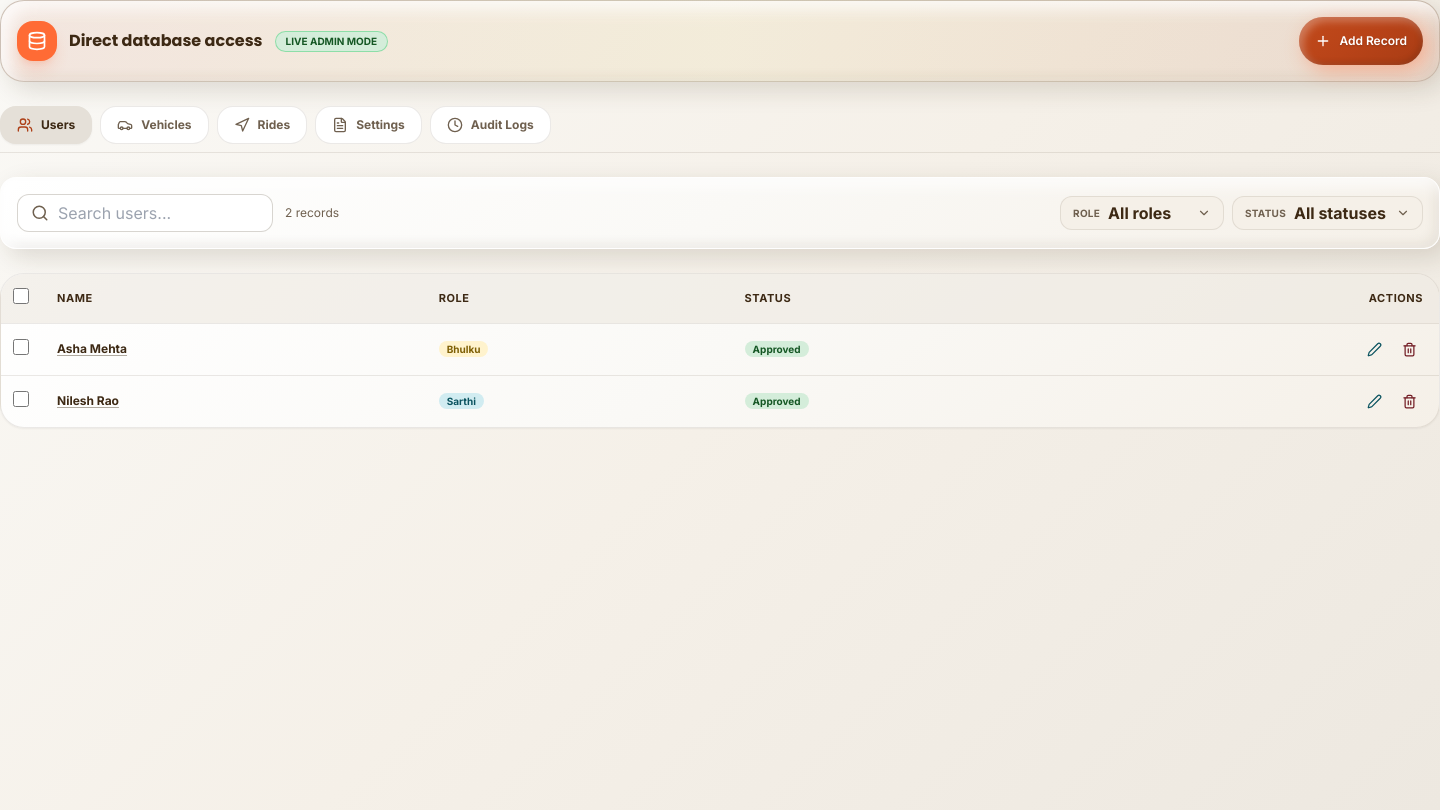
Test case: Raw records, Users — the name opens the record › opens a dialog naming that person
Click the button "Asha Mehta" at (92, 349), box [57, 341, 127, 357]
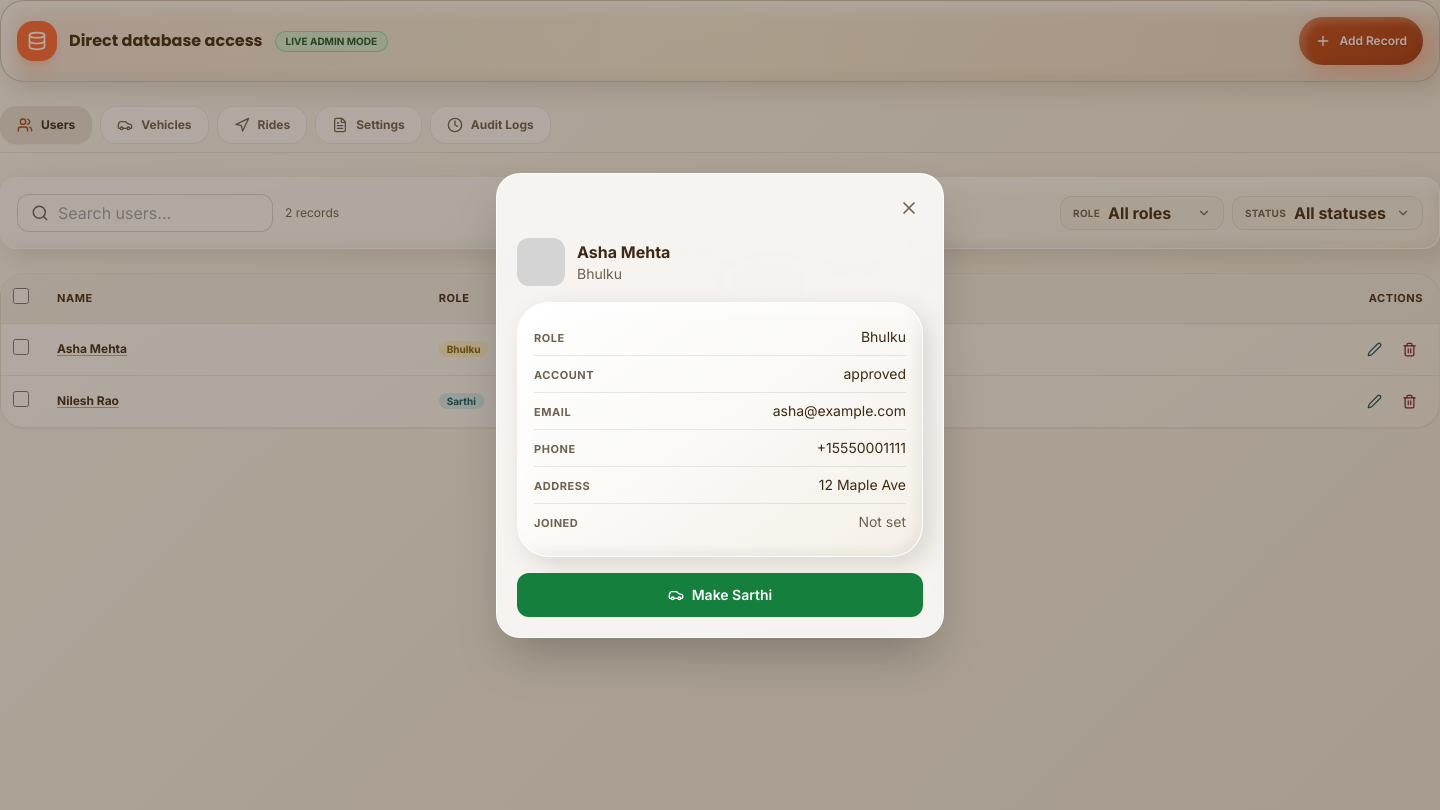
Check: the dialog "Asha Mehta" is shown, box [496, 172, 944, 638]
